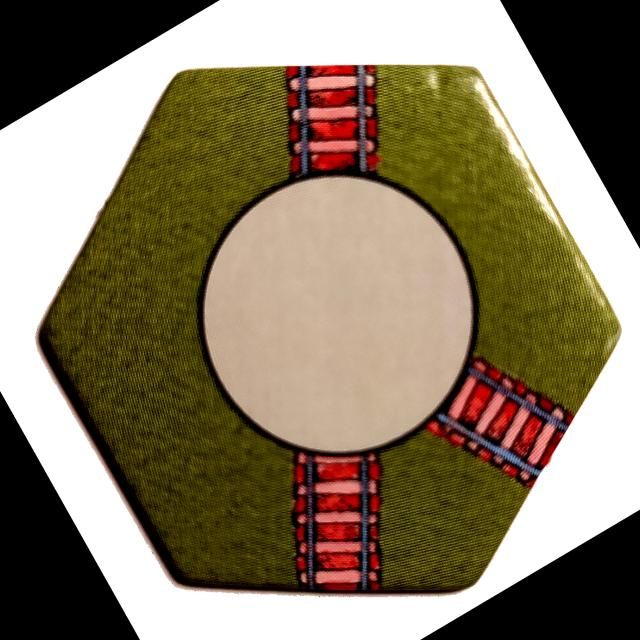14_5: (34, 64, 624, 595)
